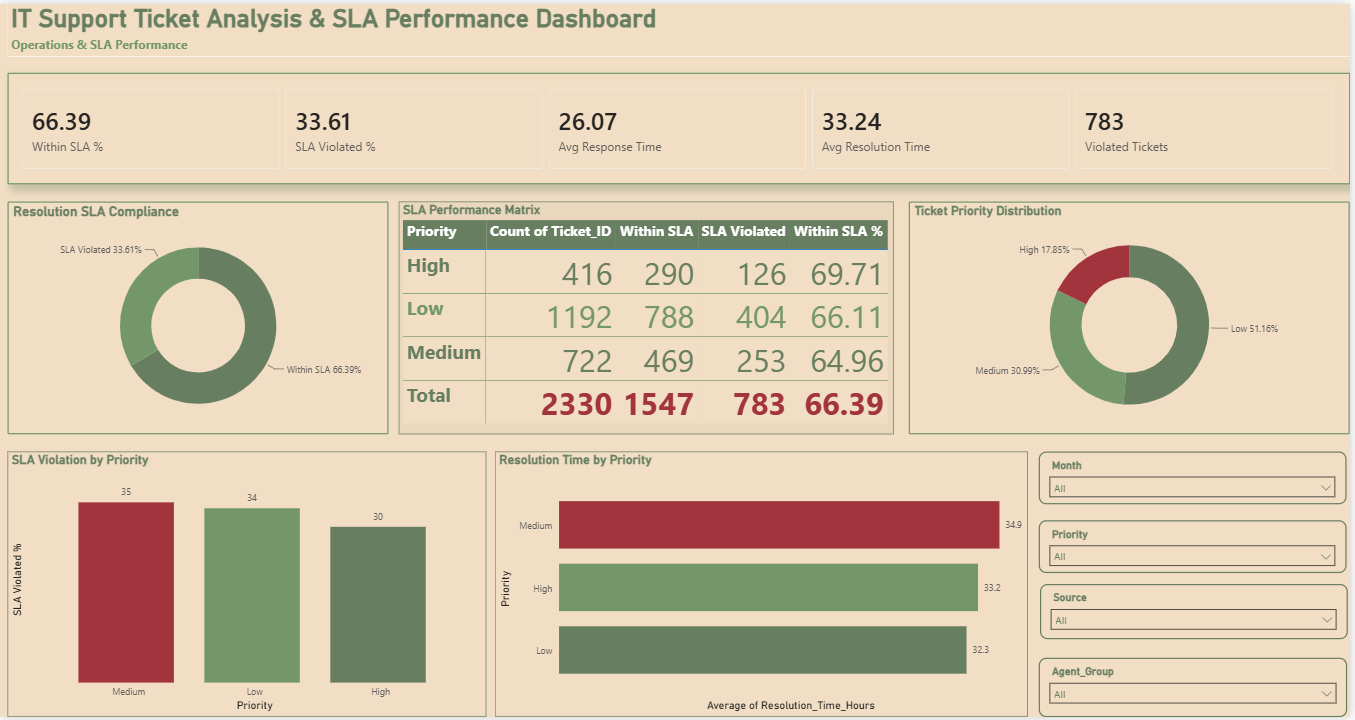

The dashboard page shown, as its layout file describes it:
{"tool":"powerbi","page":{"name":"Operations & SLA Performance","canvas":[1800,950],"ordinal":1},"visuals":[{"type":"textbox","title":"IT Support Ticket Analysis & SLA Performance Dashboard","box":[9.8,0,1790.5,70.3],"z":0},{"type":"cardVisual","fields":{"Data":["Measures (2).Within SLA %","Measures (2).SLA Violated %","Measures (2).Avg Response Time","Measures (2).Avg Resolution Time","Measures (2).Violated Tickets"]},"box":[9.8,91.6,1790.5,148.8],"z":1000},{"type":"donutChart","title":"Resolution SLA Compliance","fields":{"Y":["CountNonNull(Technical_support_dataset.Ticket_ID)"],"Category":["Technical_support_dataset.SLA_For_Resolution"]},"box":[10,263.3,508.3,310],"z":2000},{"type":"donutChart","title":"Ticket Priority Distribution","fields":{"Y":["Count(Technical_support_dataset.Ticket_ID)"],"Category":["Technical_support_dataset.Priority"]},"box":[1211.7,263.3,588.3,310],"z":3000},{"type":"columnChart","title":"SLA Violation by Priority","fields":{"Category":["Technical_support_dataset.Priority"],"Y":["Measures (2).SLA Violated %"]},"box":[10,596.7,638.3,353.3],"z":4000},{"type":"clusteredBarChart","title":"Resolution Time by Priority","fields":{"Y":["Avg(Technical_support_dataset.Resolution_Time_Hours)"],"Category":["Technical_support_dataset.Priority"]},"box":[660,596.7,710,353.3],"z":5000},{"type":"slicer","fields":{"Values":["Technical_support_dataset.Month"]},"box":[1385,596.7,410,70],"z":6000},{"type":"slicer","fields":{"Values":["Technical_support_dataset.Priority"]},"box":[1385,688.3,410,70],"z":7000},{"type":"slicer","fields":{"Values":["Technical_support_dataset.Source"]},"box":[1386.7,773.3,410,73.3],"z":8000},{"type":"slicer","fields":{"Values":["Technical_support_dataset.Agent_Group"]},"box":[1384.2,871,411.2,79.3],"z":9000},{"type":"pivotTable","title":"SLA Performance Matrix","fields":{"Rows":["Technical_support_dataset.Priority"],"Values":["CountNonNull(Technical_support_dataset.Ticket_ID)","Measures (2).Within SLA","Measures (2).SLA Violated","Measures (2).Within SLA %"]},"box":[531.7,263.3,660,310],"z":10000}]}

Visuals, with their boxes in screenshot pixels (x1, y1, x2, y2), scaled from the page's 1800x950 canvas onto the 1355x720 screenshot:
"IT Support Ticket Analysis & SLA Performance Dashboard" textbox: [x1=7, y1=0, x2=1354, y2=53]
cardVisual - Measures (2).Within SLA % x Measures (2).SLA Violated %: [x1=7, y1=69, x2=1354, y2=182]
"Resolution SLA Compliance" donutChart: [x1=8, y1=200, x2=390, y2=435]
"Ticket Priority Distribution" donutChart: [x1=912, y1=200, x2=1354, y2=435]
"SLA Violation by Priority" columnChart: [x1=8, y1=452, x2=488, y2=719]
"Resolution Time by Priority" clusteredBarChart: [x1=497, y1=452, x2=1031, y2=719]
slicer - Technical_support_dataset.Month: [x1=1043, y1=452, x2=1351, y2=505]
slicer - Technical_support_dataset.Priority: [x1=1043, y1=522, x2=1351, y2=575]
slicer - Technical_support_dataset.Source: [x1=1044, y1=586, x2=1353, y2=642]
slicer - Technical_support_dataset.Agent_Group: [x1=1042, y1=660, x2=1352, y2=719]
"SLA Performance Matrix" pivotTable: [x1=400, y1=200, x2=897, y2=435]
